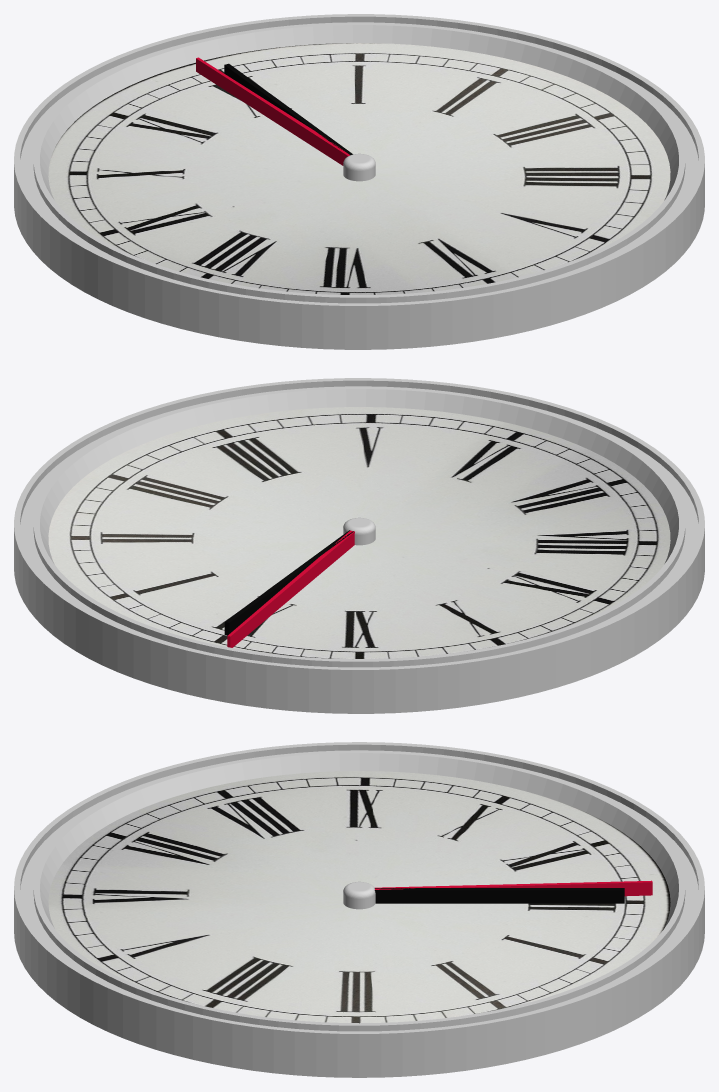
Rendered from ClockTest.fbx.
The picture shows the model from 3 angles, top to bottom: view 1: azimuth 30°, elevation 25°; view 2: azimuth 150°, elevation 25°; view 3: azimuth 270°, elevation 25°; orthographic projection.
Visible parts, largest first — view 1: Cylinder, 1.Seconds; view 2: Cylinder, 1.Seconds; view 3: Cylinder, 1.Seconds.
Part boxes in pixels (x1,y1,x2,y2): Cylinder: (14, 14, 704, 349); 1.Seconds: (196, 57, 352, 165); Cylinder: (14, 378, 704, 713); 1.Seconds: (224, 530, 354, 647); Cylinder: (14, 742, 704, 1077); 1.Seconds: (374, 880, 652, 903).
Bounding box in the file's own units: 200 × 14.42 × 200.
Materials: 4 (1 with a texture image).
